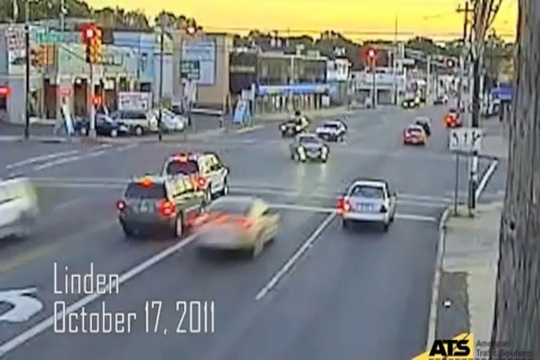car: (115, 174, 206, 238), (197, 197, 280, 253), (335, 175, 402, 234), (73, 114, 128, 143), (285, 132, 332, 164), (108, 106, 160, 132), (158, 99, 193, 132), (402, 120, 429, 151), (316, 117, 348, 141), (439, 112, 462, 130), (413, 116, 433, 135), (402, 94, 419, 109)
